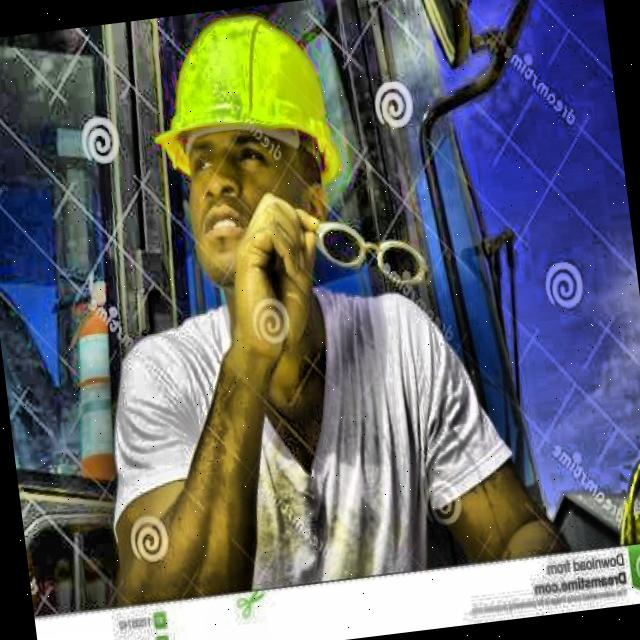helmet: (142, 1, 354, 299)
